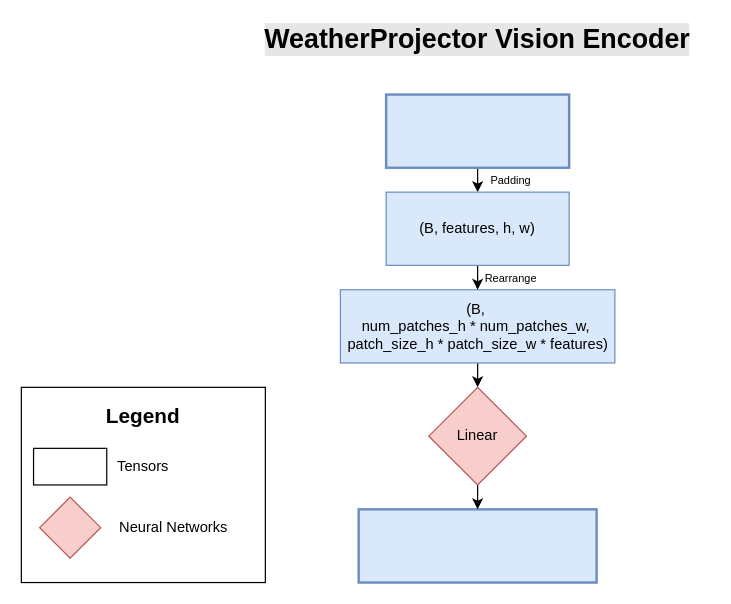
Image size: 731x604. Some labels were removed from this diagram. The centre of each missing label's shape, as x and y in pixels:
(B, num_patches_h * num_patches_w , embed_dim): pixel 477 545
Weather Inputs (B, features, lat, lon): pixel 477 130
